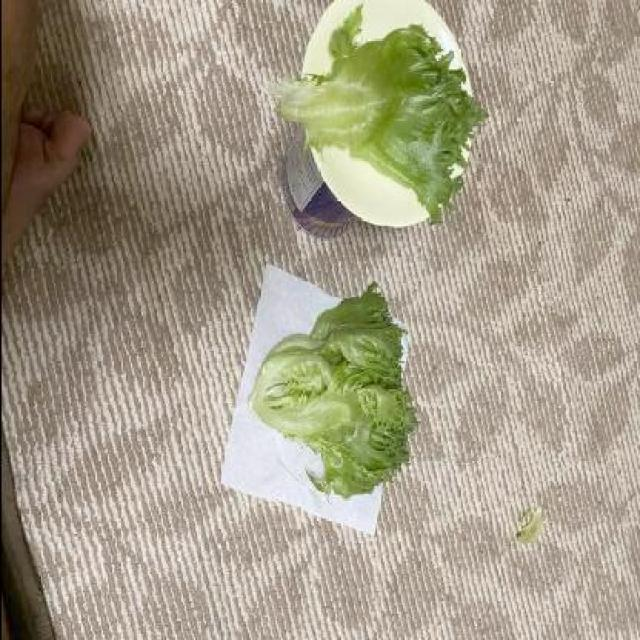Lettuce: (275, 4, 489, 232), (252, 277, 422, 504)
